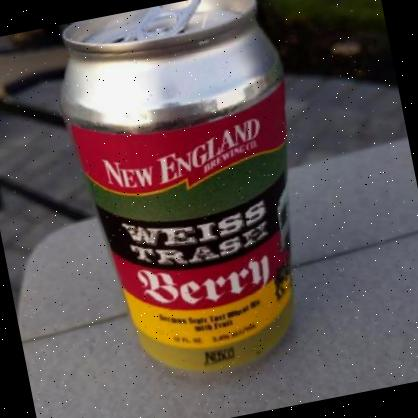can: (47, 0, 340, 399)
